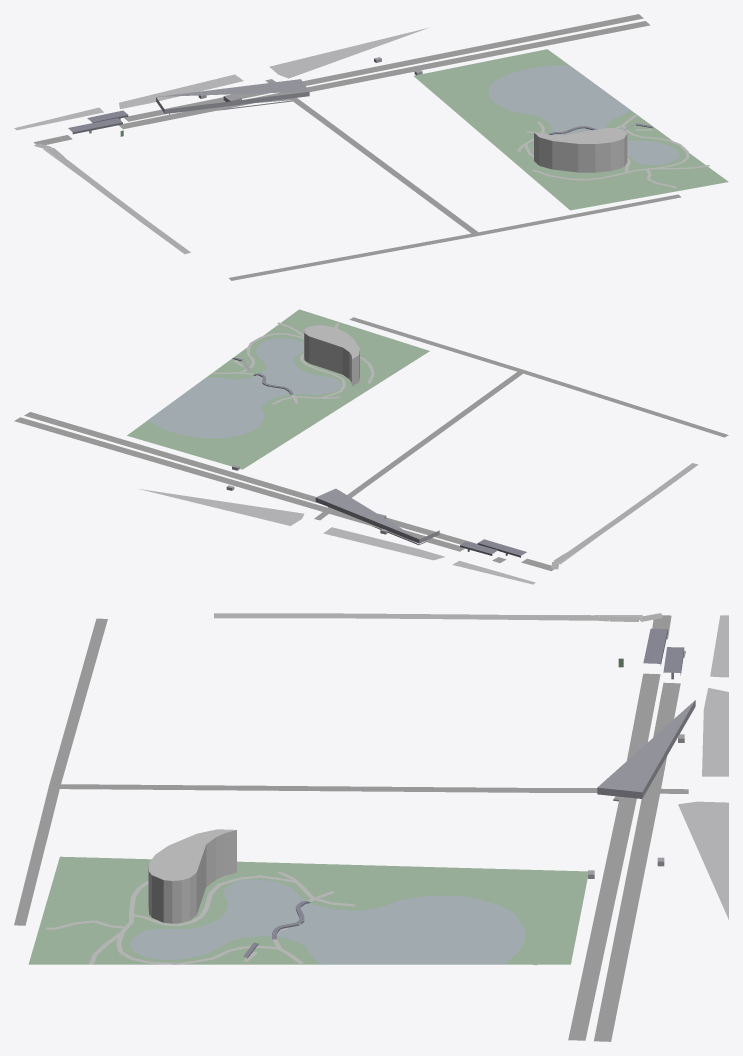
The picture shows the model from 3 angles, top to bottom: view 1: azimuth 30°, elevation 25°; view 2: azimuth 150°, elevation 25°; view 3: azimuth 270°, elevation 25°; orthographic projection. The views are drawn at different scales.
Bounding box in the file's own units: 613 × 33.62 × 431.
